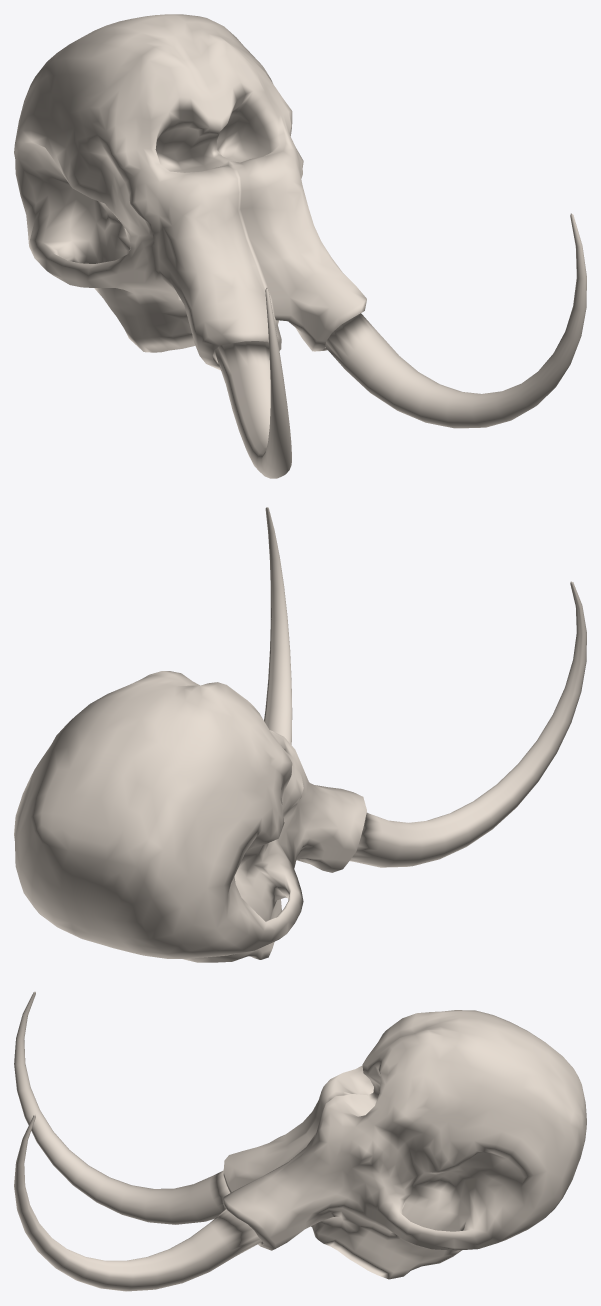
File: eleSkull.fbx
The picture shows the model from 3 angles, top to bottom: view 1: azimuth 30°, elevation 25°; view 2: azimuth 150°, elevation 25°; view 3: azimuth 270°, elevation 25°; orthographic projection. The views are drawn at different scales.
Visible parts, largest first — view 1: polySurface3; view 2: polySurface3; view 3: polySurface3.
Part boxes in pixels (left/top/right/bottom): polySurface3: left=14, top=14, right=586, bottom=478; polySurface3: left=14, top=507, right=586, bottom=962; polySurface3: left=14, top=991, right=586, bottom=1291.
Size of the model in its own units: 3.69 by 3.13 by 6.97.
